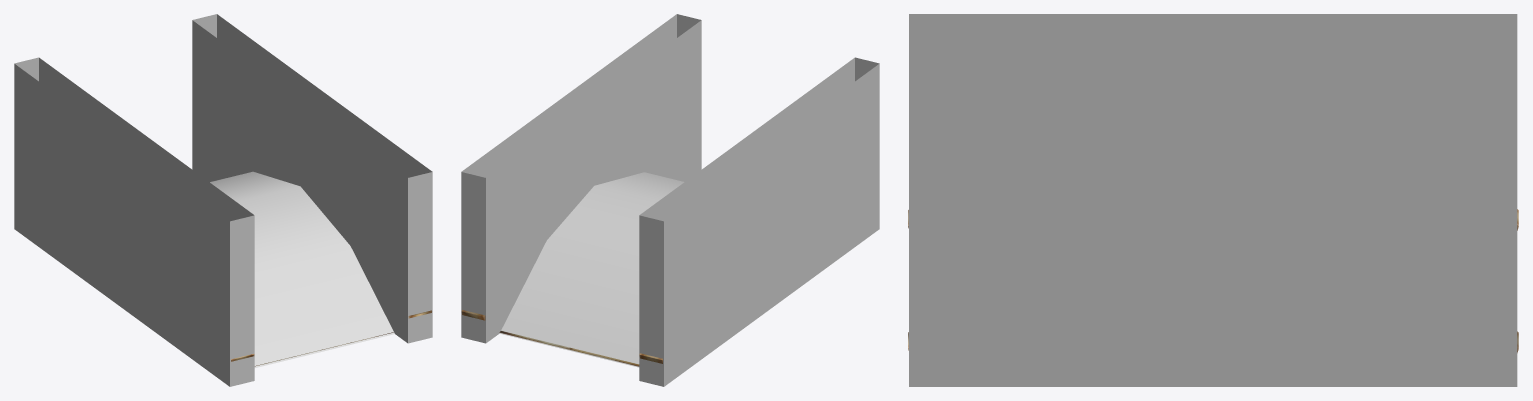
File: Shiqiao.FBX
3 views of the same model, side by side, from view 1: azimuth 30°, elevation 25°; view 2: azimuth 150°, elevation 25°; view 3: azimuth 270°, elevation 25° (orthographic). The views are drawn at different scales.
Parts seen in each view (by area): view 1: Box001; view 2: Box001, Shiqiao; view 3: Box001.
Part boxes in pixels (x1,y1,x2,y2): Box001: (14, 14, 432, 386); Box001: (461, 14, 879, 386); Shiqiao: (461, 310, 662, 366); Box001: (909, 14, 1517, 386).
Size of the model in its own units: 7.44 by 5.8 by 13.75.
Materials: 2 (2 with a texture image).
